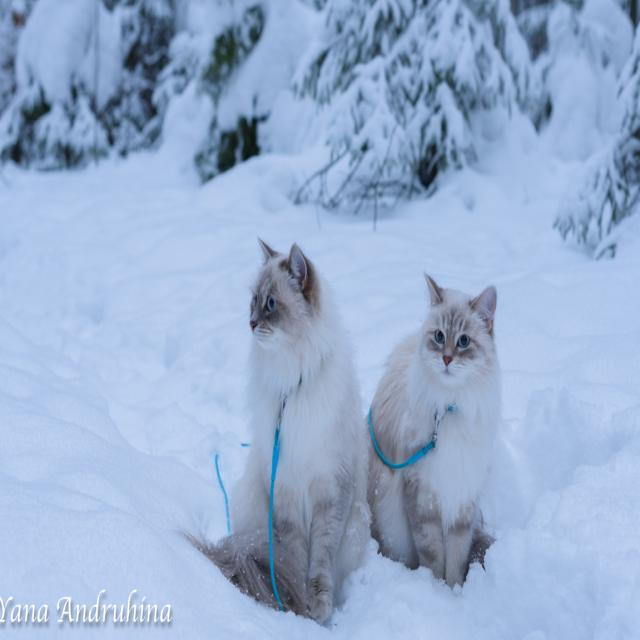Neva Masquerade: (189, 234, 370, 629), (366, 266, 506, 598)
